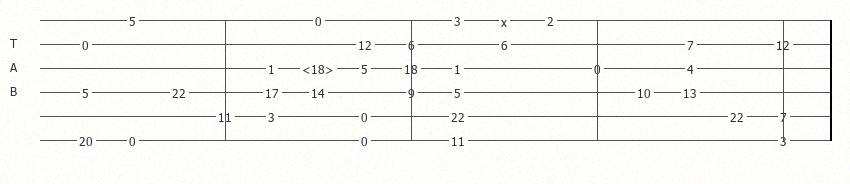0: (82, 38, 93, 51), (129, 134, 140, 147), (315, 14, 326, 27), (361, 110, 372, 123), (361, 134, 372, 147), (594, 62, 605, 75)
1: (268, 62, 279, 75), (454, 62, 465, 75)
10: (637, 86, 655, 99)
11: (218, 110, 236, 123), (451, 134, 469, 147)
12: (358, 38, 376, 51), (776, 38, 794, 51)
13: (683, 86, 701, 99)
14: (311, 86, 329, 99)
17: (265, 86, 283, 99)
18: (404, 62, 422, 75)
2: (547, 14, 558, 27)
20: (79, 134, 97, 147)
22: (172, 86, 190, 99), (451, 110, 469, 123), (730, 110, 748, 123)
3: (268, 110, 279, 123), (454, 14, 465, 27), (780, 134, 791, 147)
4: (687, 62, 698, 75)
5: (82, 86, 93, 99), (129, 14, 140, 27), (361, 62, 372, 75), (454, 86, 465, 99)
6: (408, 38, 419, 51), (501, 38, 512, 51)
7: (687, 38, 698, 51), (780, 110, 791, 123)
9: (408, 86, 419, 99)
harmonic: (302, 62, 338, 75)
x: (501, 15, 511, 26)
